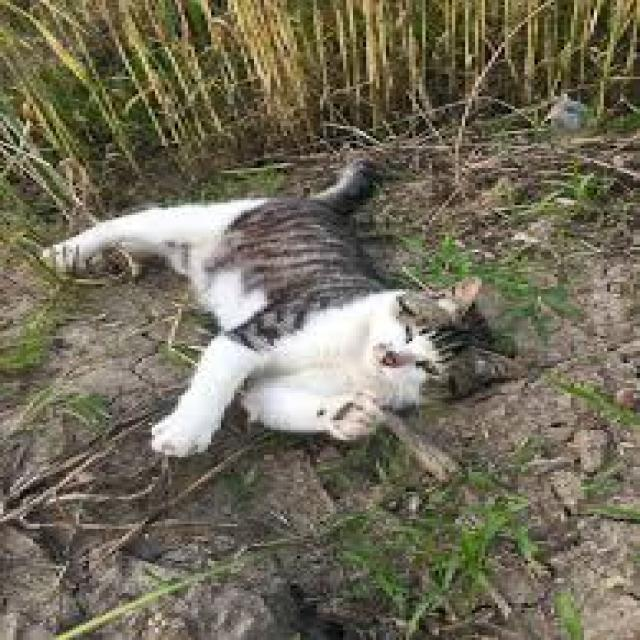cat: (38, 139, 537, 470)
